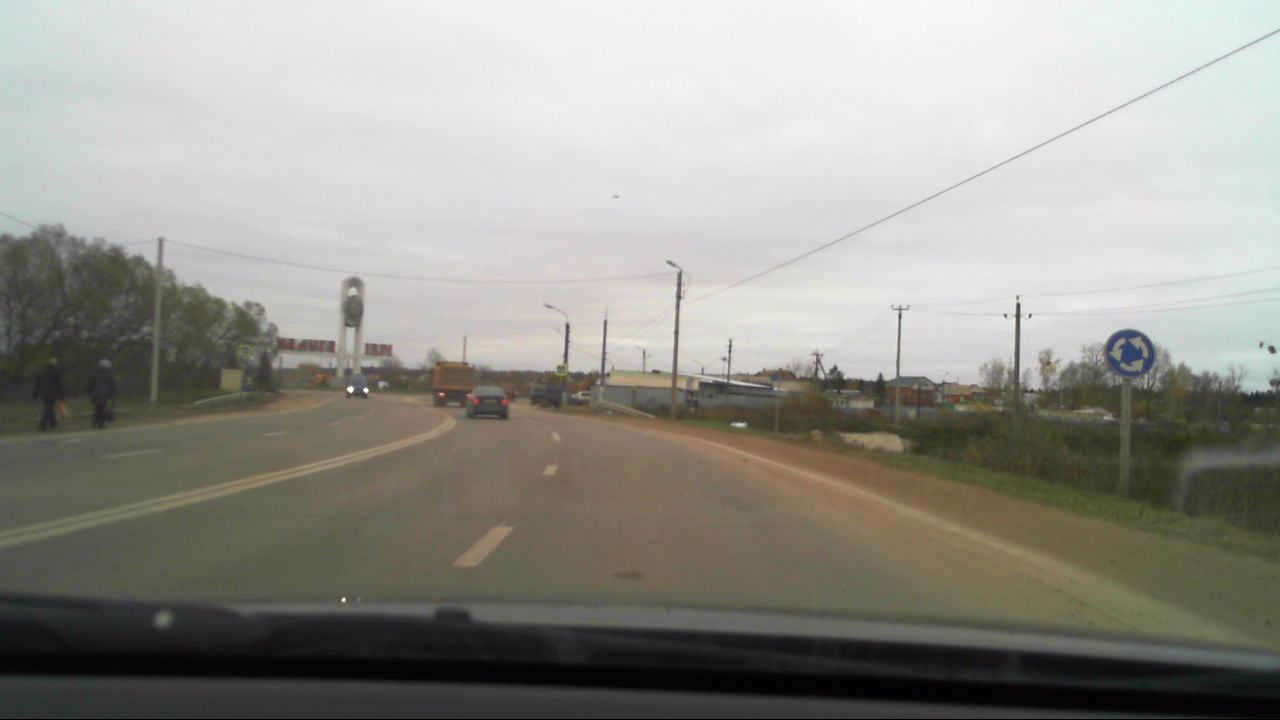Round-About: (1103, 327, 1157, 382)
